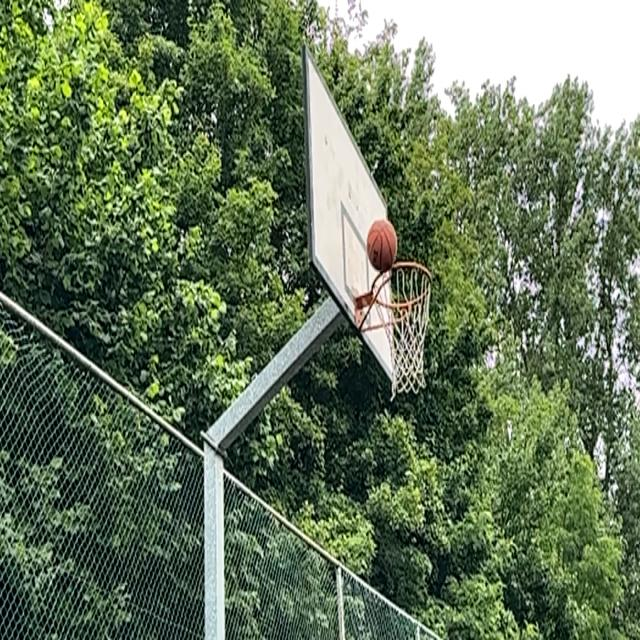rebound_hit: (368, 222, 398, 278)
